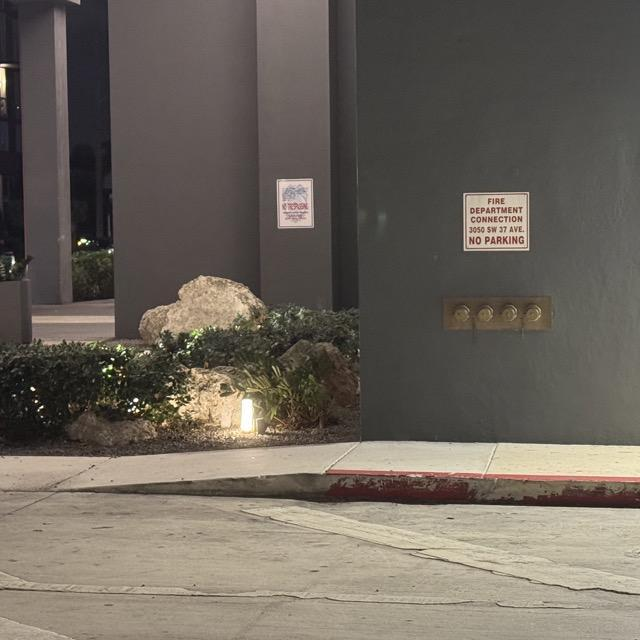curb: (57, 470, 639, 507)
